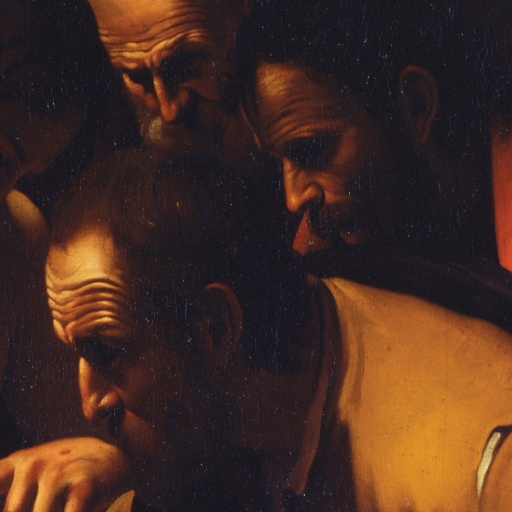hand: (0, 430, 140, 512)
